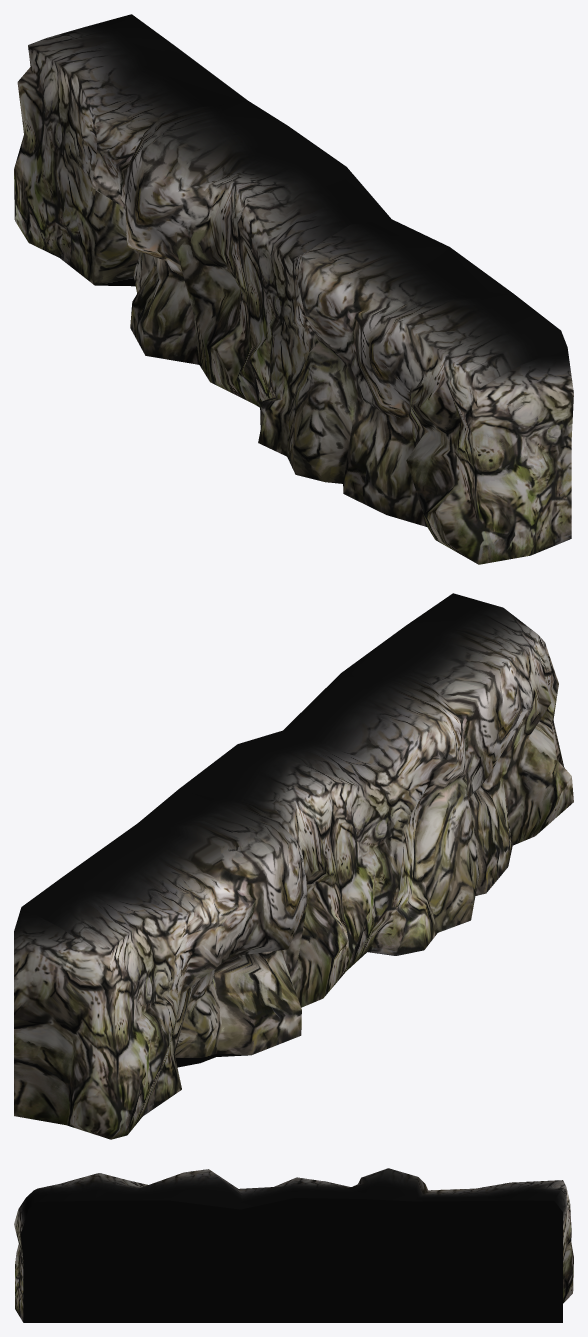
Rendered from STR_WallCaveC.FBX.
The picture shows the model from 3 angles, top to bottom: view 1: azimuth 30°, elevation 25°; view 2: azimuth 150°, elevation 25°; view 3: azimuth 270°, elevation 25°; orthographic projection. The views are drawn at different scales.
Parts seen in each view (by area): view 1: STR_WallCaveC; view 2: STR_WallCaveC; view 3: STR_WallCaveC.
Boxes of the visible parts, x1=… form: STR_WallCaveC: x1=14, y1=14, x2=573, y2=564; STR_WallCaveC: x1=14, y1=593, x2=573, y2=1139; STR_WallCaveC: x1=14, y1=1168, x2=573, y2=1322.
Bounding box in the file's own units: 298 × 415 × 1663.
